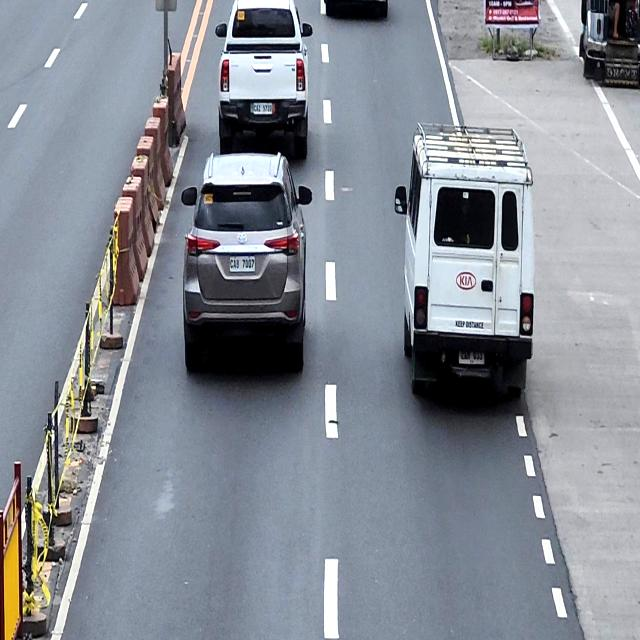Car: (394, 120, 535, 397), (181, 150, 312, 372), (214, 0, 313, 158)
License-Plate: (458, 347, 485, 366), (229, 256, 255, 272), (252, 102, 273, 115)
